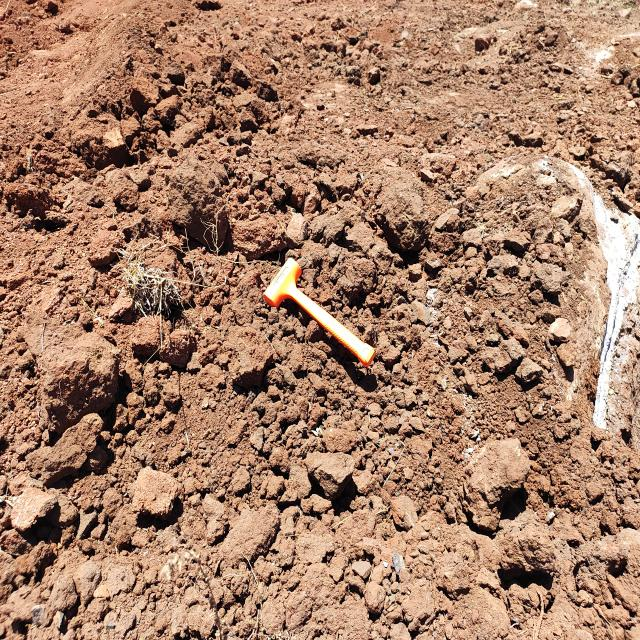Orange_hammer: (262, 256, 376, 368)
